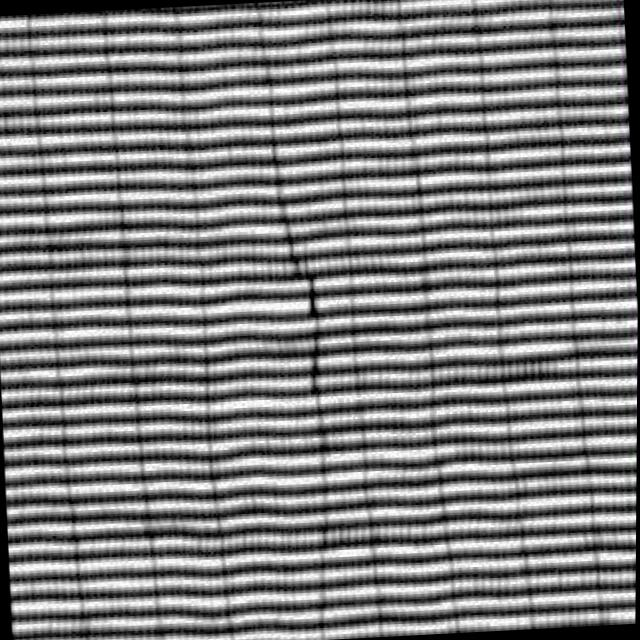Stitch: (243, 152, 360, 470)
